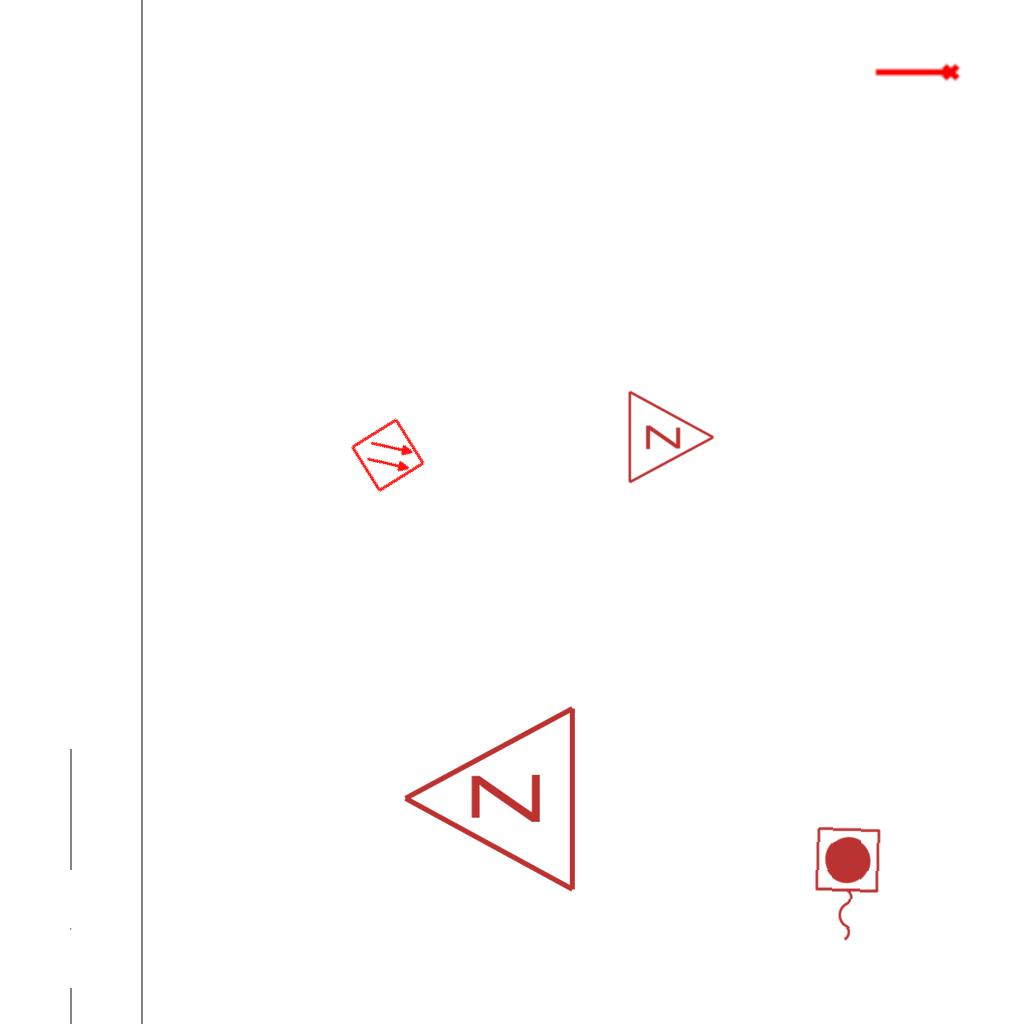ASR_Ansaugoeffnung: (873, 62, 961, 85)
RMO_Rauchmelder_optischer: (349, 416, 427, 494)
Zimmersignalleuchte: (390, 703, 590, 899), (621, 387, 721, 485)
Zugtaster: (807, 822, 885, 948)
